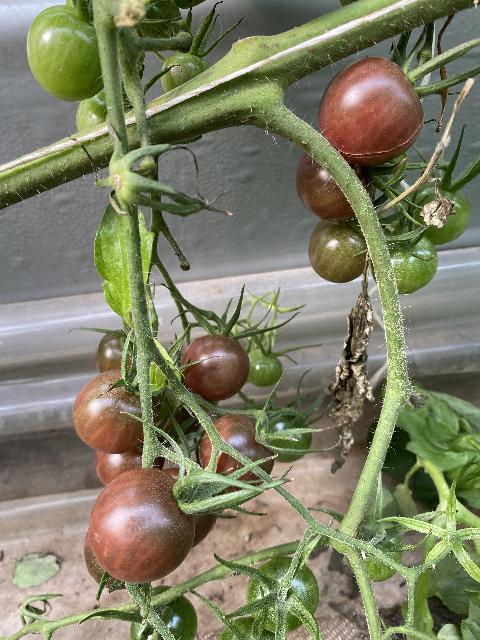l_fully_ripened: (88, 467, 196, 585), (318, 56, 425, 165), (197, 415, 275, 492), (159, 468, 219, 547), (182, 334, 249, 400)
l_green: (26, 5, 104, 102), (246, 556, 320, 634), (369, 227, 439, 296), (404, 182, 473, 246), (346, 515, 402, 583), (129, 584, 197, 640), (257, 406, 313, 463), (161, 54, 212, 93), (218, 616, 287, 640), (247, 349, 284, 387), (76, 91, 109, 133)
l_half_ripened: (73, 369, 159, 454), (295, 134, 373, 223), (95, 427, 165, 487), (308, 219, 370, 284), (96, 330, 138, 374)
